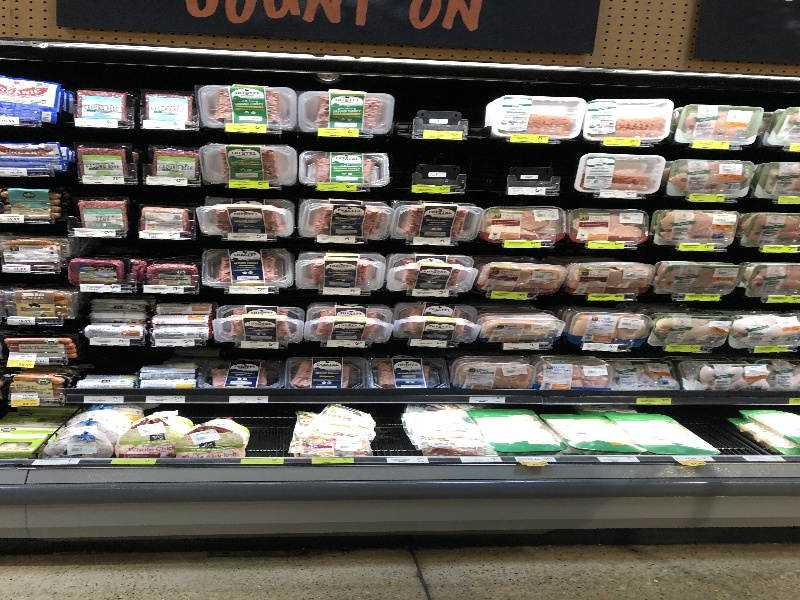void: (398, 147, 487, 200), (491, 150, 576, 204), (407, 83, 476, 144)
